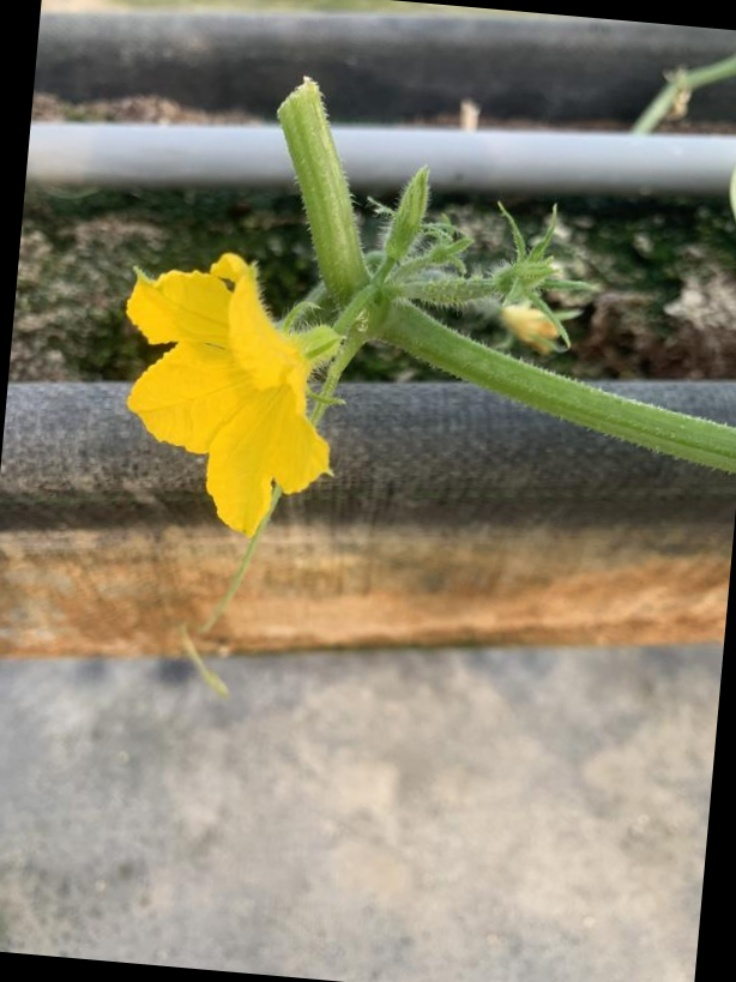flowering: (95, 240, 342, 536)
